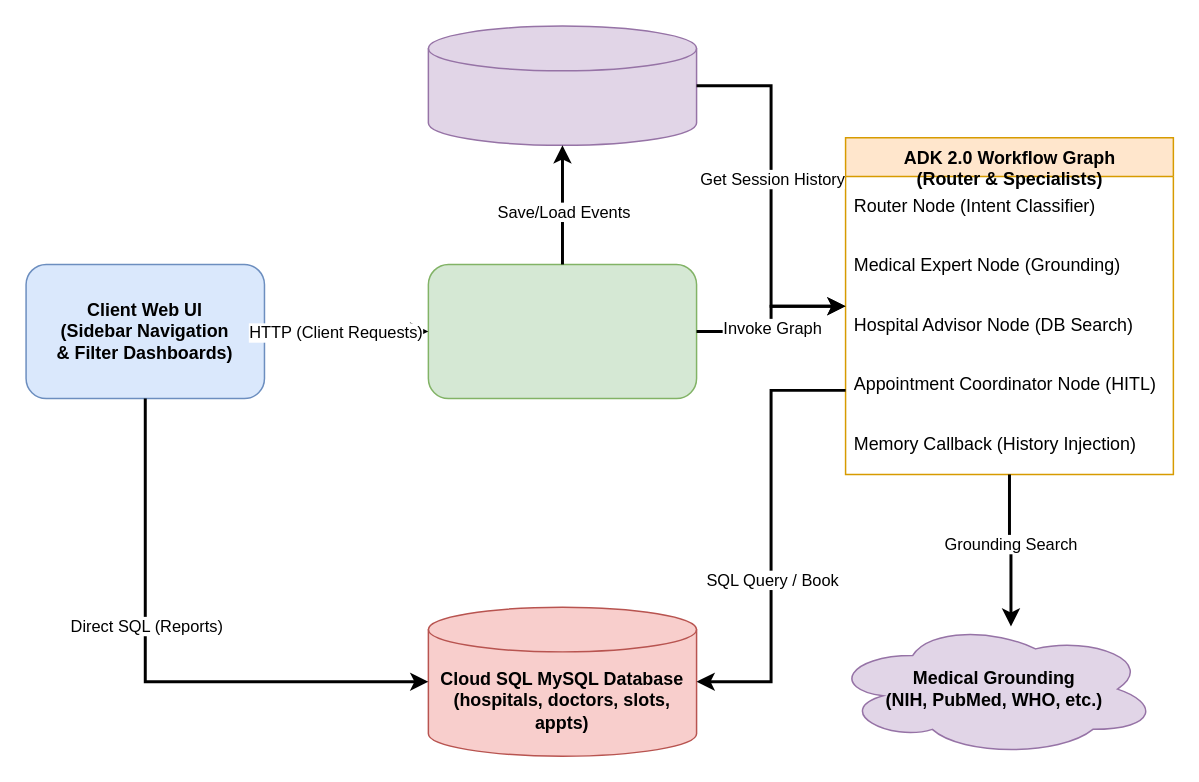
This 1199x782 diagram has some shape labels left out. Here are the shapes that lost their labels. From the top down, the centre of each, then its label:
At [562,85]: "Session Event Database (InMemorySessionService)".
At [562,331]: "FastAPI Backend Server & Agent Runtime".
